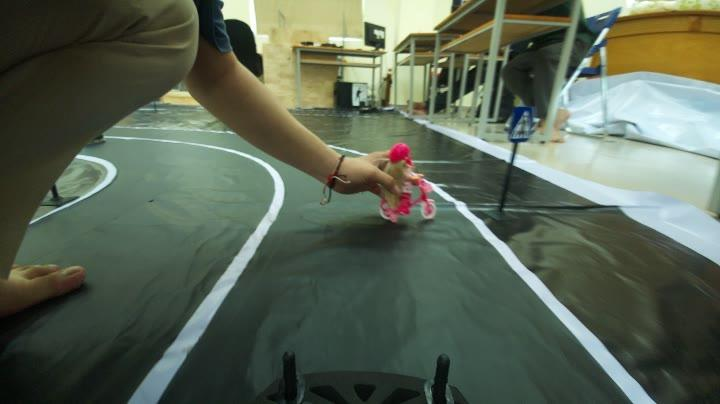crosswalk: (504, 104, 541, 152)
pedestrian: (371, 140, 440, 224)
